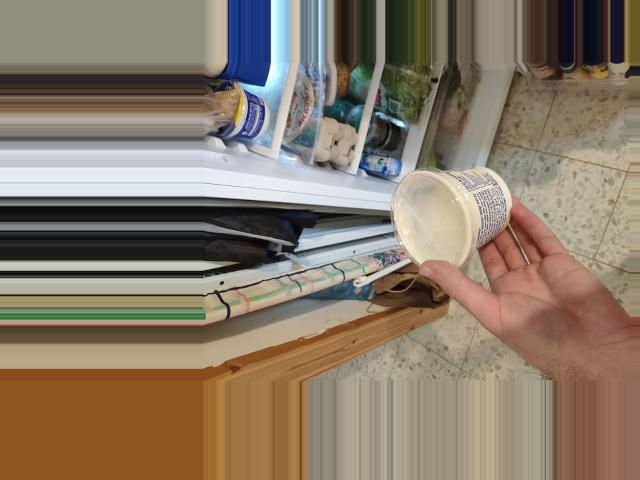cotage: (390, 176, 514, 268)
